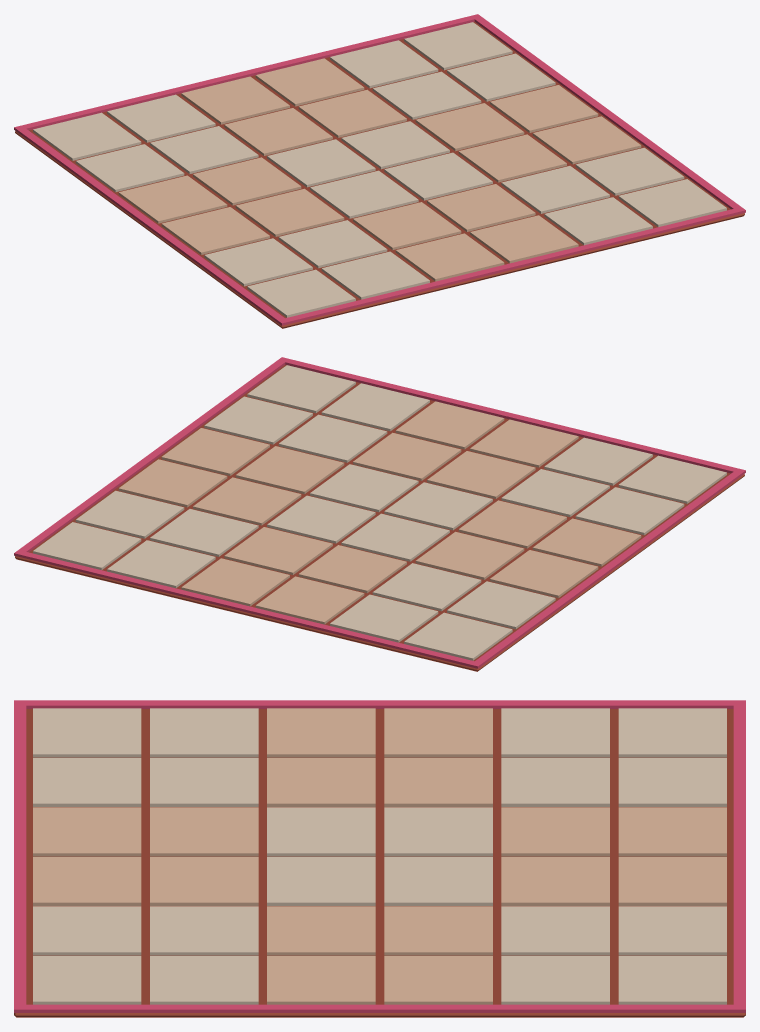
Rendered from citrus-plotfloor.glb.
The picture shows the model from 3 angles, top to bottom: view 1: azimuth 30°, elevation 25°; view 2: azimuth 150°, elevation 25°; view 3: azimuth 270°, elevation 25°; orthographic projection. The views are drawn at different scales.
Parts seen in each view (by area): view 1: citrus-plotfloor; view 2: citrus-plotfloor; view 3: citrus-plotfloor.
Boxes of the visible parts, x1,y1,x2,y2 form: citrus-plotfloor: [14, 14, 745, 328]; citrus-plotfloor: [14, 357, 745, 671]; citrus-plotfloor: [14, 700, 745, 1017].
Size of the model in its own units: 6 by 0.08 by 6.
